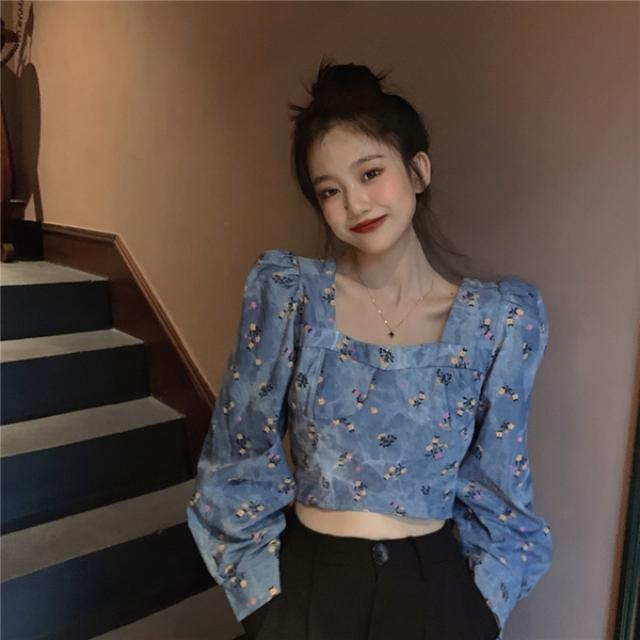clothes: (184, 243, 564, 640)
